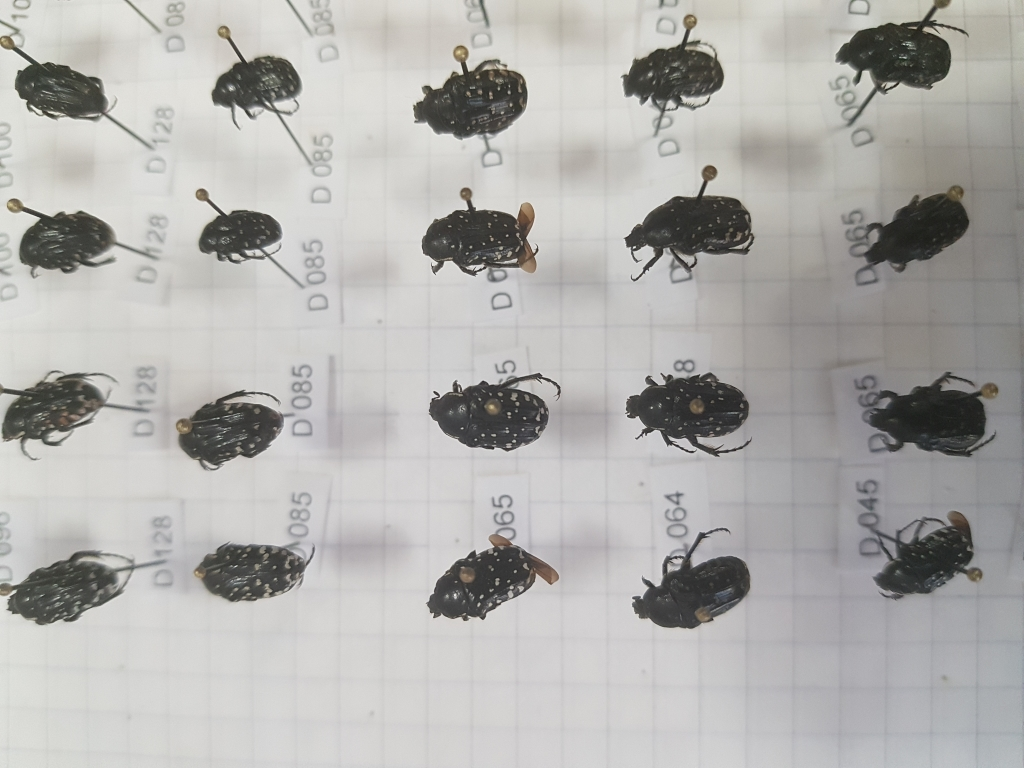Oxythyrea_cinctella: (628, 521, 760, 629), (621, 364, 759, 459), (1, 359, 127, 460), (619, 191, 755, 280), (4, 541, 144, 626), (865, 499, 978, 600), (425, 366, 558, 451), (411, 54, 526, 149), (422, 533, 536, 626), (827, 19, 977, 89), (177, 383, 295, 468), (419, 205, 545, 281), (13, 204, 124, 287), (191, 531, 318, 603), (621, 37, 740, 109), (196, 50, 310, 117), (10, 54, 113, 128), (197, 204, 287, 266)
